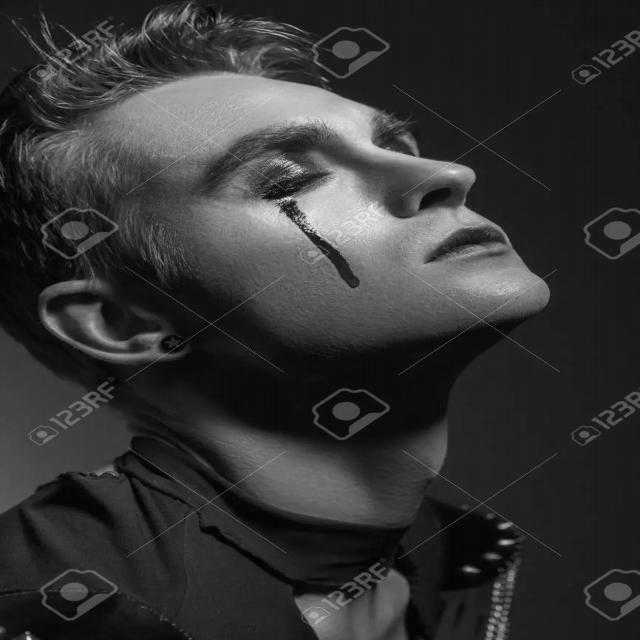real: (6, 5, 553, 375), (188, 124, 384, 208)
